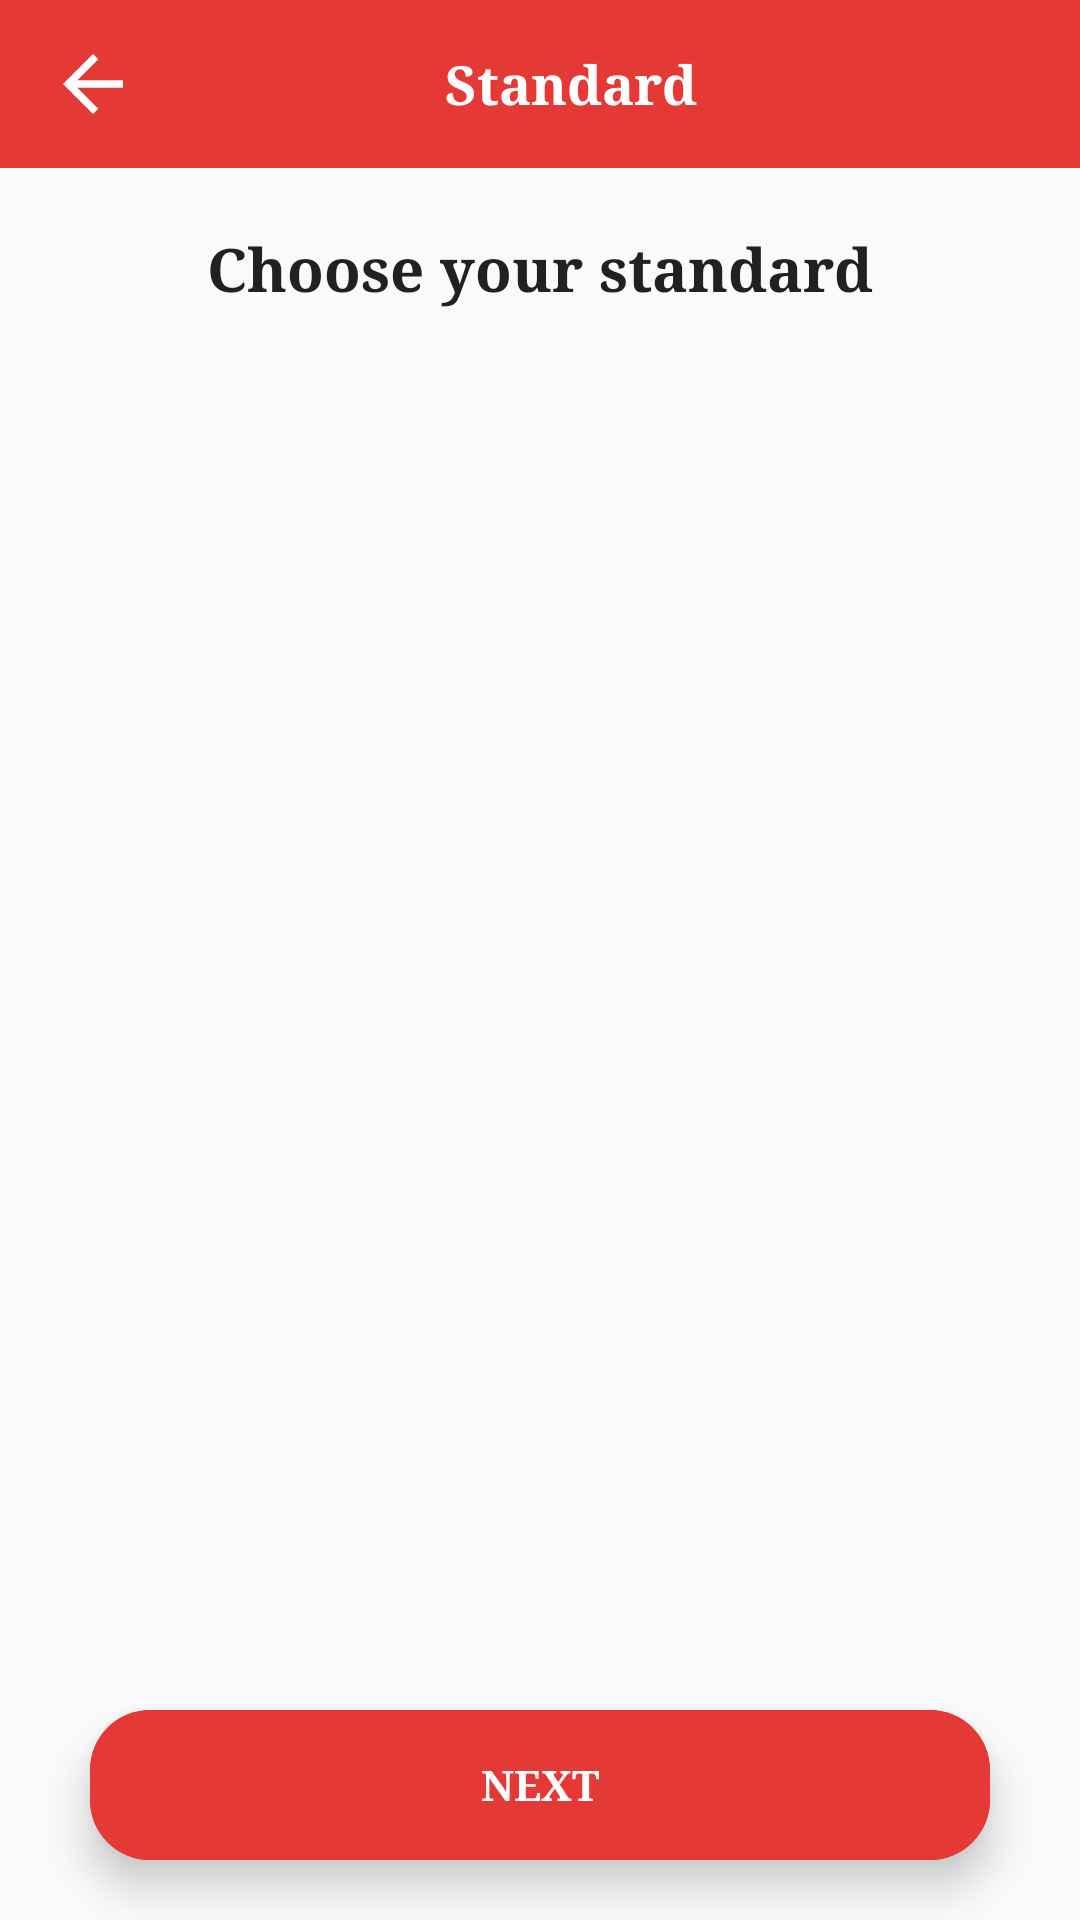

Icon click points for this 1080px x 1920px phone screenshot, format [x,y]:
arrow back: [93,84]
